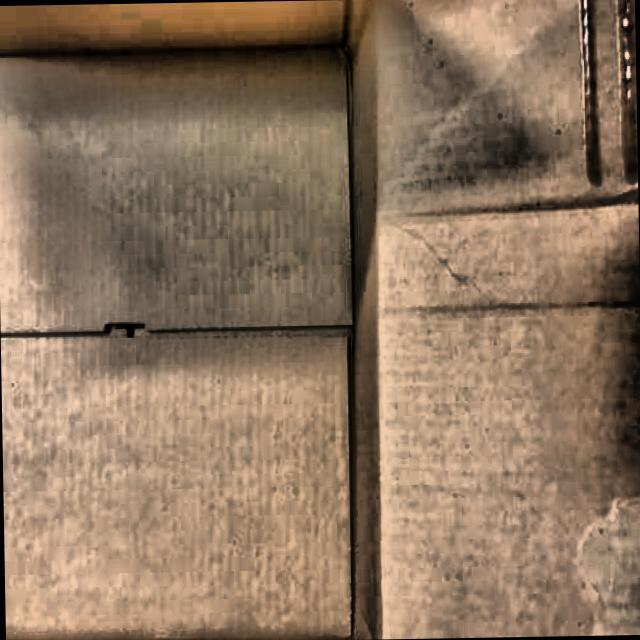cardboard: (0, 44, 361, 640)
